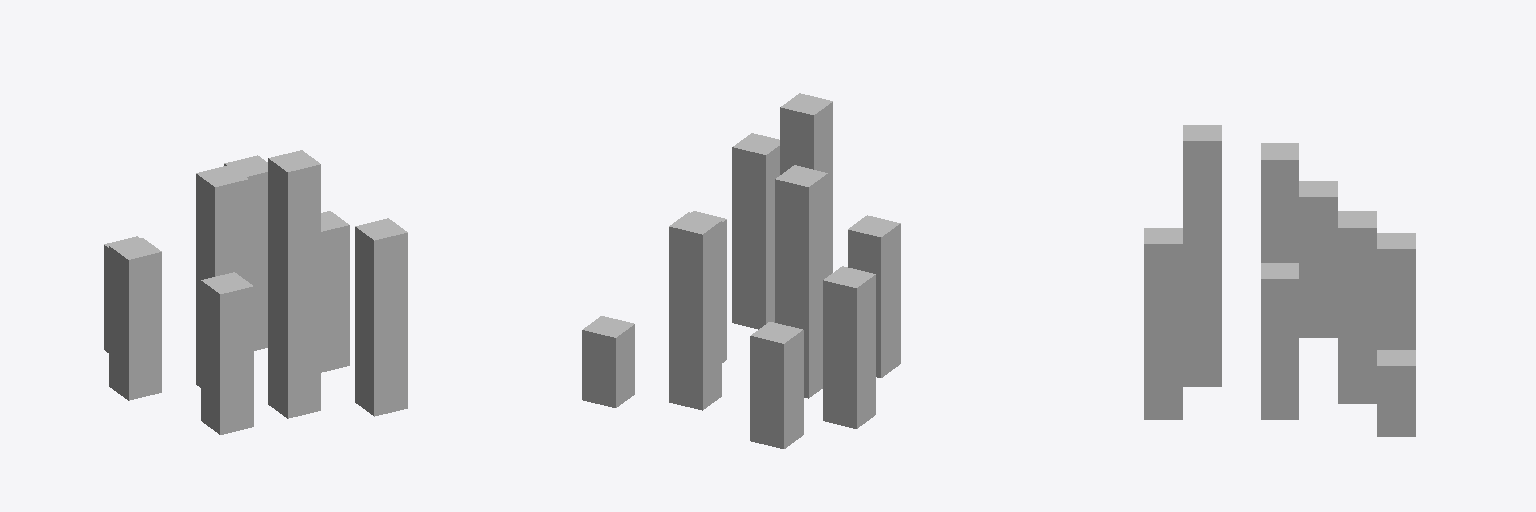
File: grass-2.obj
3 renders of one model, left to right at view 1: azimuth 30°, elevation 25°; view 2: azimuth 150°, elevation 25°; view 3: azimuth 270°, elevation 25°, orthographic.
Parts seen in each view (by area): view 1: object 1; view 2: object 1; view 3: object 1.
Part boxes in pixels (x1,y1,x2,y2): object 1: (104, 150, 407, 434); object 1: (582, 93, 900, 448); object 1: (1144, 125, 1415, 436).
Size of the model in its own units: 0.7 by 0.7 by 0.7.